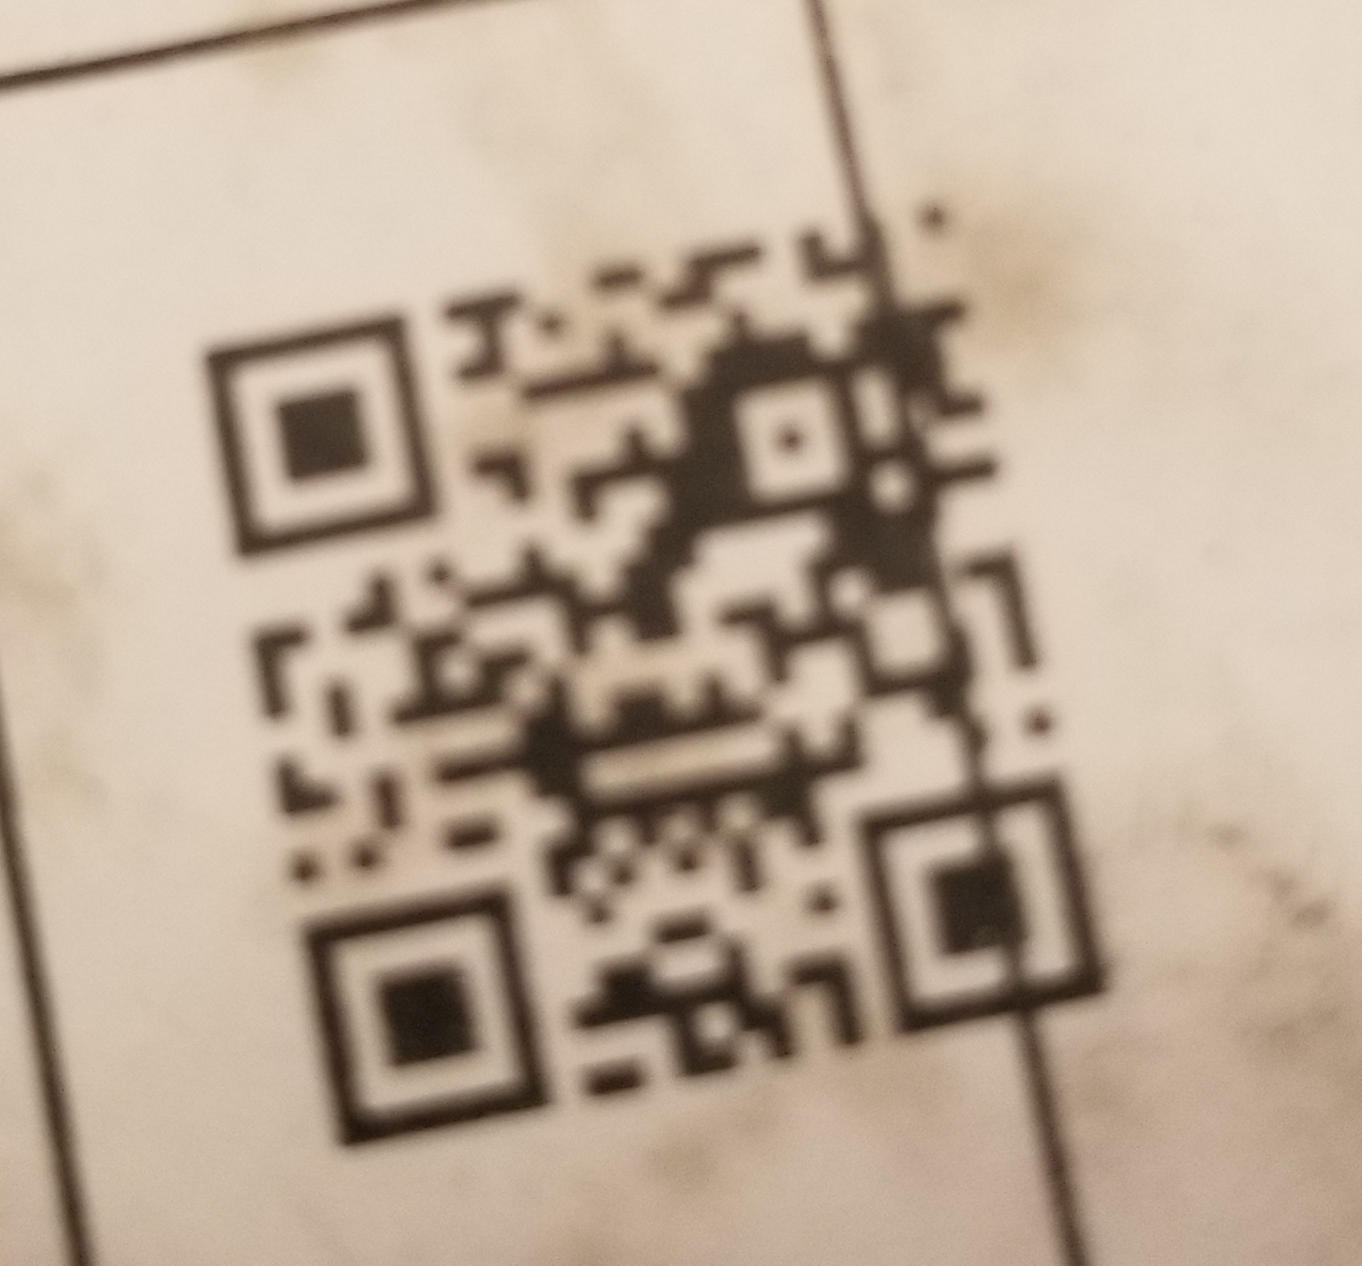QR_CODE: (167, 159, 1140, 1184)
